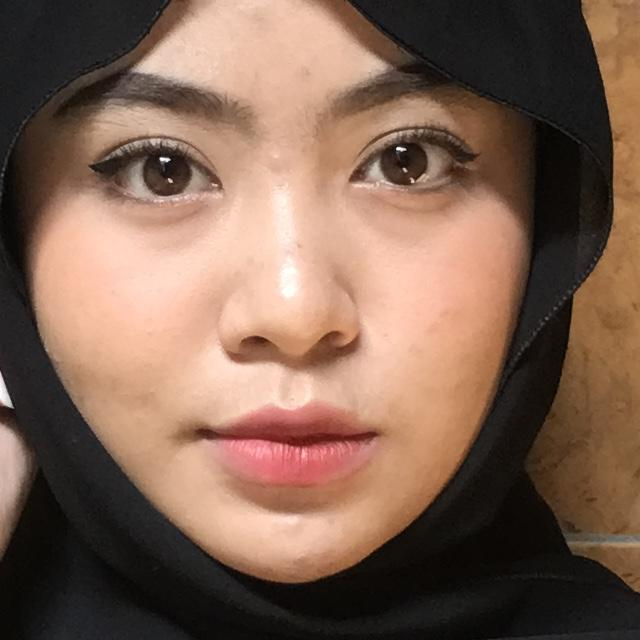ibu: (0, 196, 240, 640)
